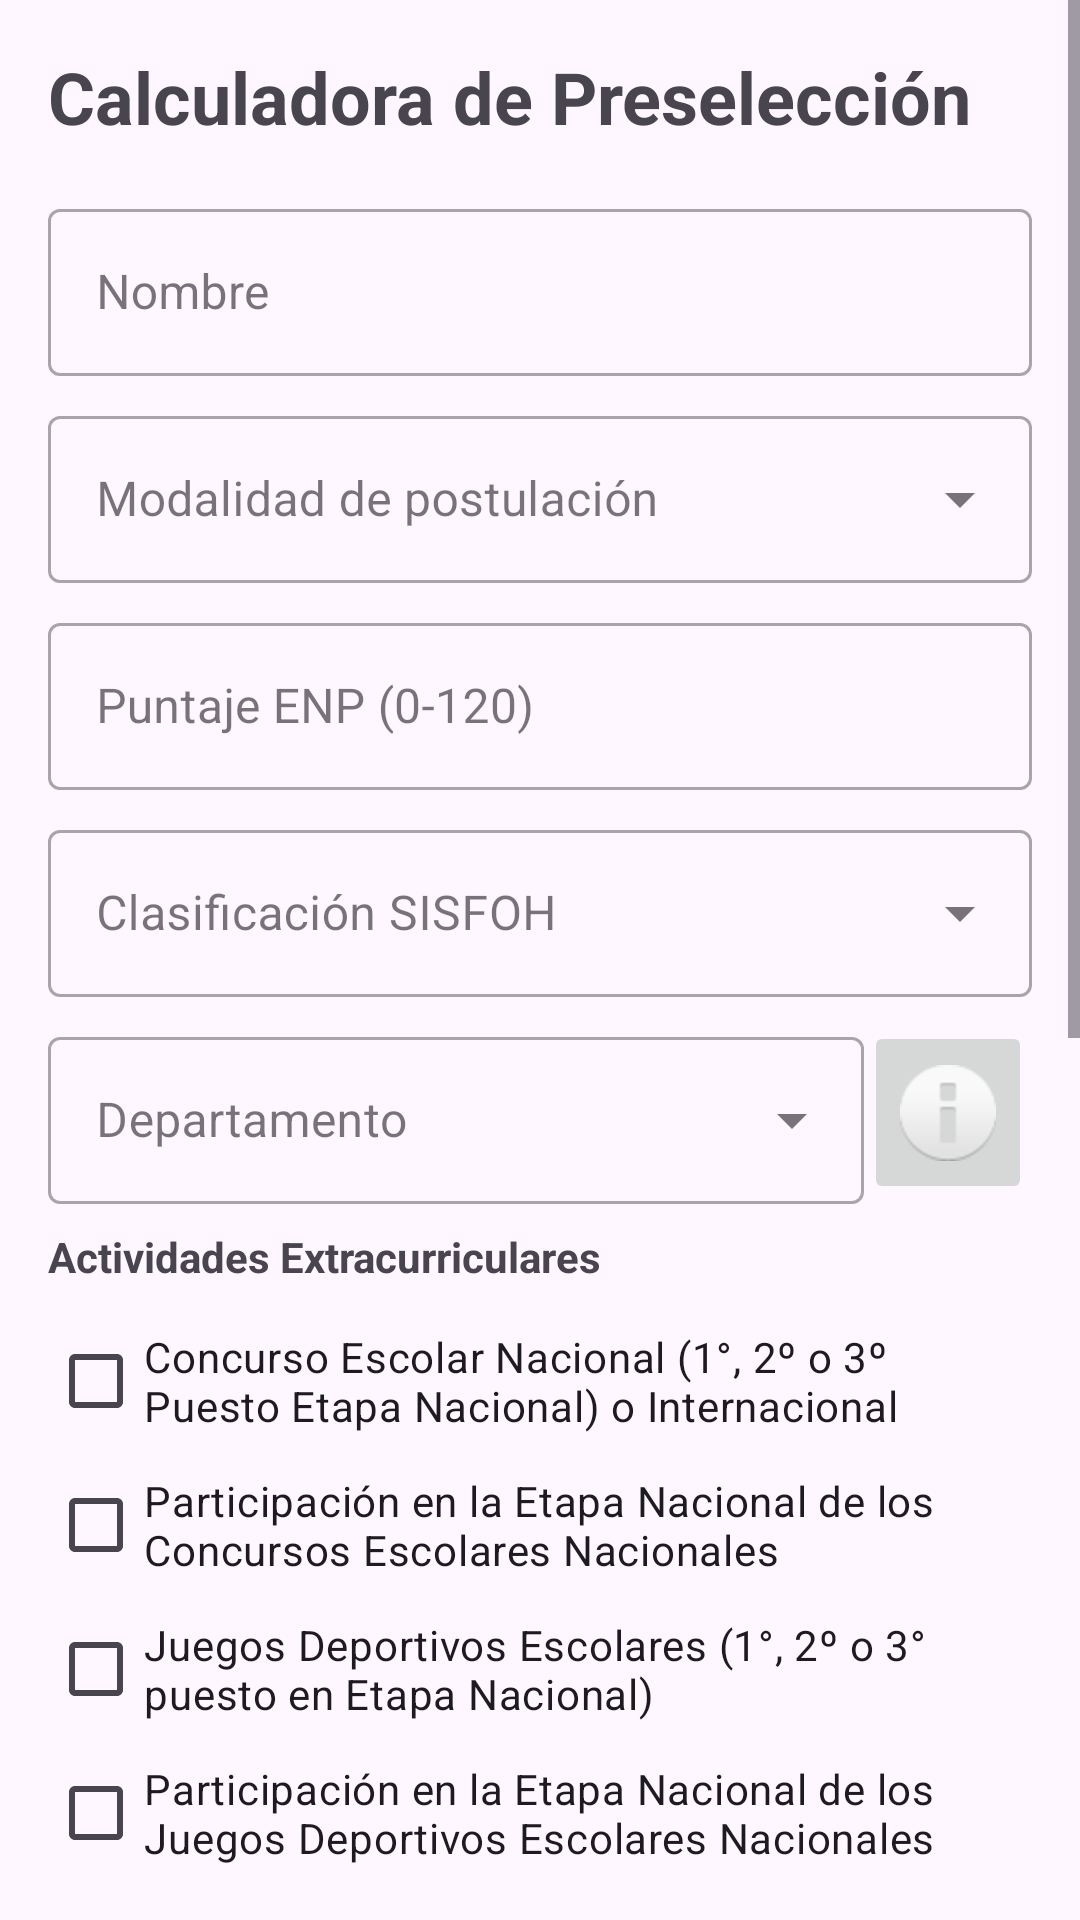

Point at icon controls on the screen. Image size 1080w x 1920h, points as (x=x, y=y).
Información de quintiles: (x=948, y=1112)
